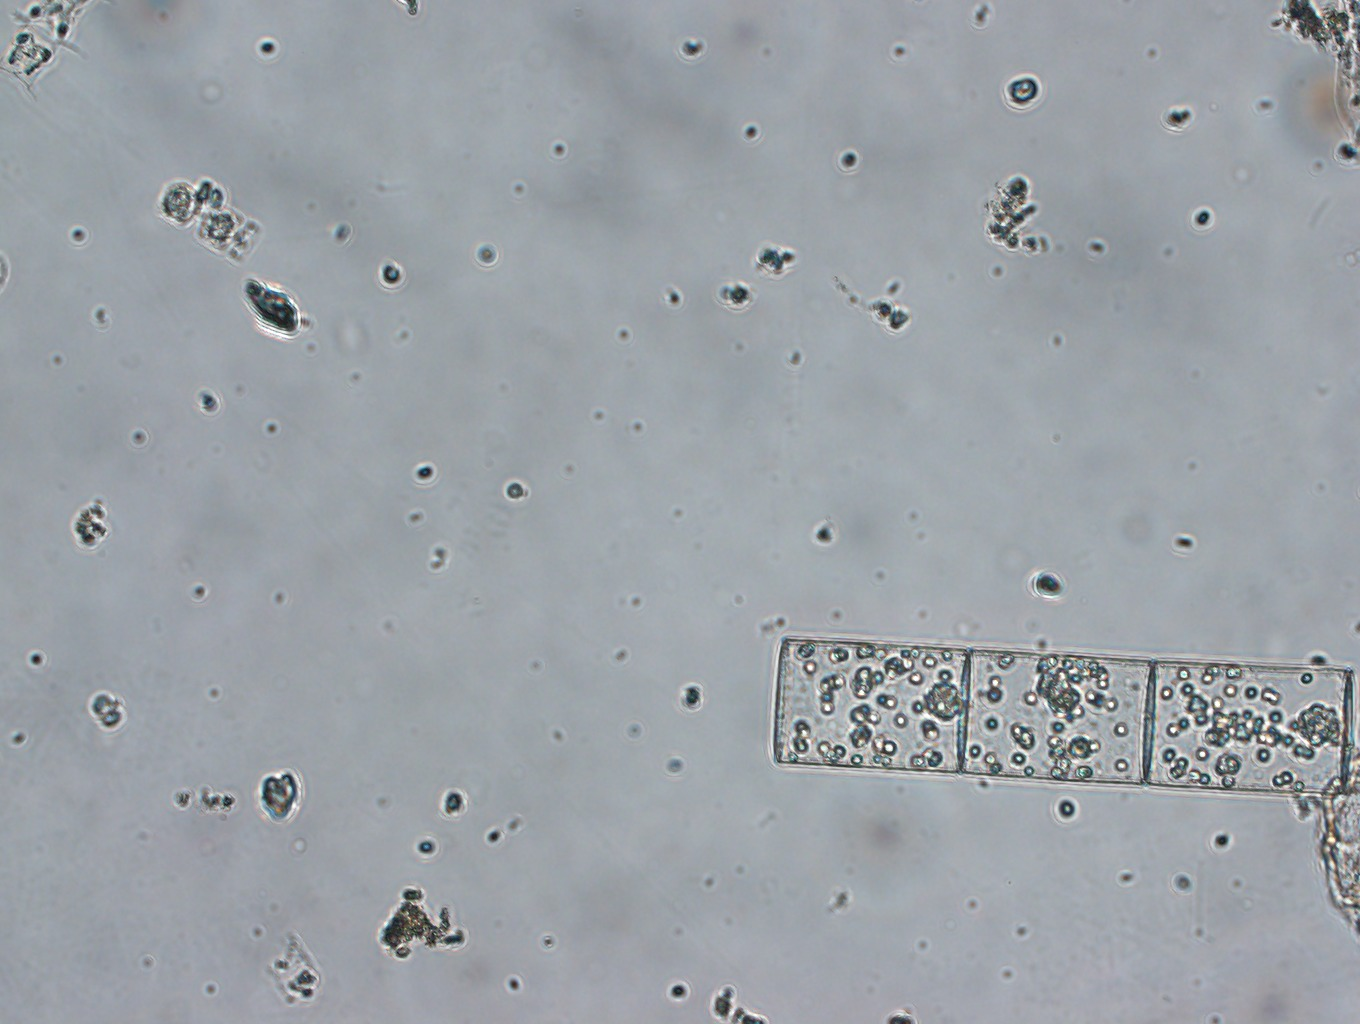guinardia flaccida: (763, 617, 1360, 800)
